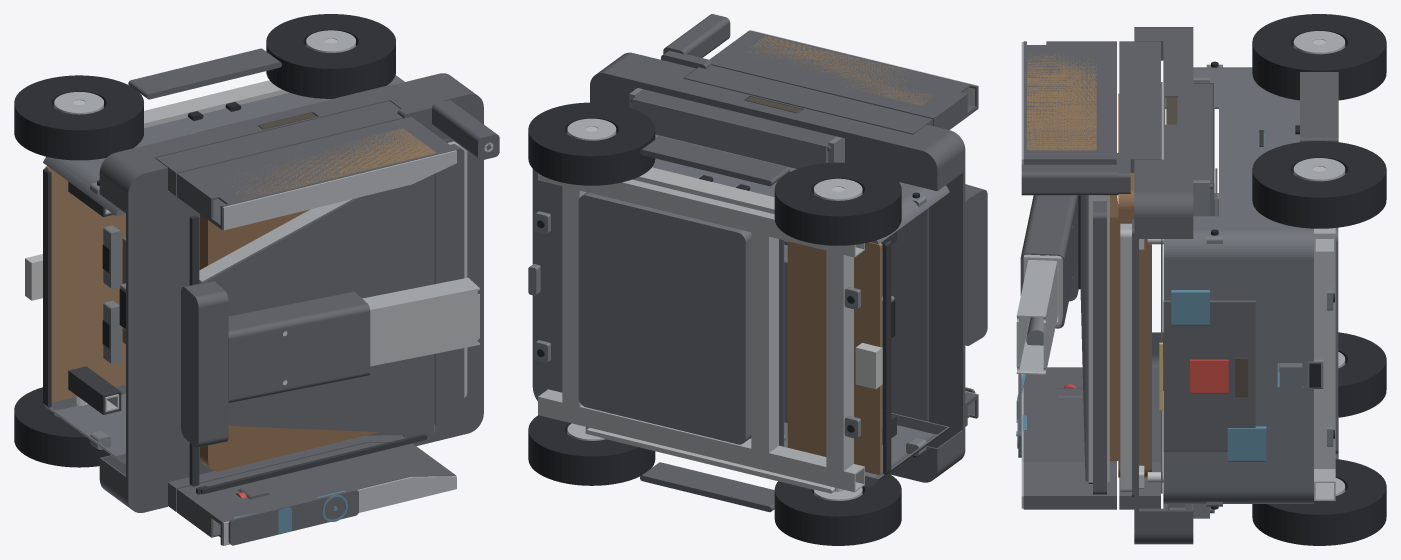
The model's file is workcore_e6_dfr4_follow.glb.
3 views of the same model, side by side, from view 1: azimuth 30°, elevation 25°; view 2: azimuth 150°, elevation 25°; view 3: azimuth 270°, elevation 25° (orthographic). The views are drawn at different scales.
Parts seen in each view (by area): view 1: upper_deck_panel, backrest_rear_cosmetic_shell, mast_outer_cosmetic_shroud_folded, armrest_shell_right, footrest_platform_stowed, armrest_shell_left, tyre_front_right, tyre_rear_right, mast_inner_folded, sensor_beam_shell_folded, lower_body_enclosure, seat_cushion_envelope (+23 smaller); view 2: battery_safety_cassette, upper_deck_panel, footrest_platform_stowed, lower_body_enclosure, armrest_shell_right, tyre_front_right, tyre_rear_right, occupant_energy_firewall, chassis_rail_left, tyre_front_left, chassis_crossmember_2, chassis_crossmember_1 (+18 smaller); view 3: lower_body_enclosure, upper_deck_panel, service_rear_flush_door, armrest_shell_right, tyre_rear_right, armrest_shell_left, tyre_front_right, tyre_rear_left, desk_bundle_stowed_right, armrest_base_shell_right, chassis_crossmember_3, travel_hinge_local_weather_bridge (+30 smaller).
Part boxes in pixels (box(x1,y1,x2,y2)): upper_deck_panel: box(99, 73, 483, 512); backrest_rear_cosmetic_shell: box(200, 174, 433, 434); mast_outer_cosmetic_shroud_folded: box(228, 291, 370, 402); armrest_shell_right: box(177, 116, 456, 230); footrest_platform_stowed: box(45, 166, 125, 402); armrest_shell_left: box(177, 442, 456, 545); tyre_front_right: box(14, 75, 143, 160); tyre_rear_right: box(266, 14, 395, 98); mast_inner_folded: box(362, 277, 479, 366); sensor_beam_shell_folded: box(181, 281, 228, 447); lower_body_enclosure: box(43, 75, 404, 463); seat_cushion_envelope: box(200, 209, 379, 471); battery_safety_cassette: box(578, 192, 751, 444); upper_deck_panel: box(590, 52, 965, 482); footrest_platform_stowed: box(787, 241, 882, 474); lower_body_enclosure: box(532, 134, 949, 486); armrest_shell_right: box(709, 30, 978, 129); tyre_front_right: box(774, 162, 901, 245); tyre_rear_right: box(528, 102, 655, 185); occupant_energy_firewall: box(882, 208, 928, 421); chassis_rail_left: box(538, 389, 864, 492); tyre_front_left: box(774, 474, 901, 545); chassis_crossmember_2: box(751, 223, 778, 461); chassis_crossmember_1: box(826, 246, 853, 479); lower_body_enclosure: box(1163, 67, 1313, 503); upper_deck_panel: box(1134, 27, 1193, 544); service_rear_flush_door: box(1163, 300, 1255, 451); armrest_shell_right: box(1023, 41, 1116, 164); tyre_rear_right: box(1252, 141, 1386, 228); armrest_shell_left: box(1023, 367, 1116, 509); tyre_front_right: box(1252, 14, 1386, 100); tyre_rear_left: box(1252, 459, 1386, 545); desk_bundle_stowed_right: box(1027, 53, 1096, 150); armrest_base_shell_right: box(1119, 41, 1160, 172); chassis_crossmember_3: box(1314, 235, 1335, 468); travel_hinge_local_weather_bridge: box(1093, 201, 1106, 494).
Bounding box in the file's own units: 0.8348 × 0.735 × 0.6894.
